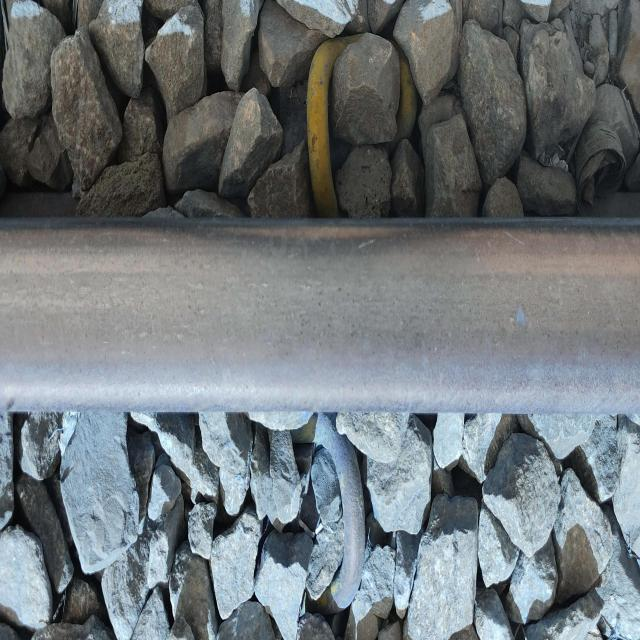Good Fasteners: (236, 438, 424, 639), (268, 53, 443, 234)
